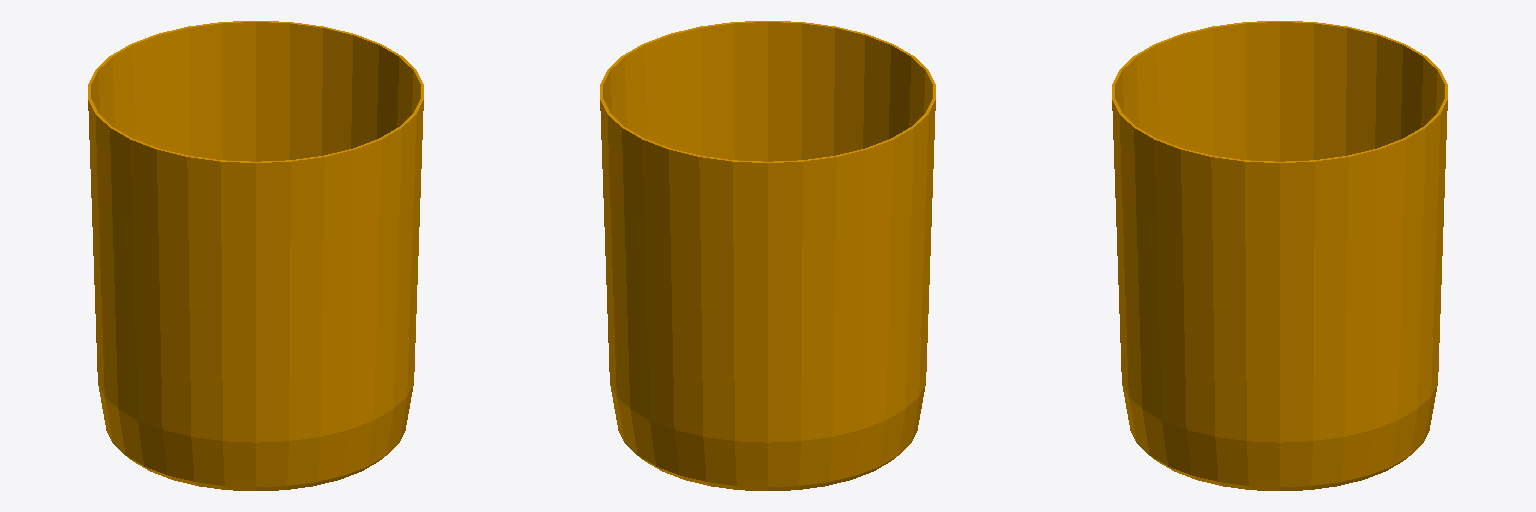
URDF robot description (object_427750634):

		<robot name="object_427750634">
			<link name="link_object_427750634">
				<visual>
					<geometry>
						<mesh filename="temp_object_427750634.obj" />
					</geometry>
				</visual>

				<collision>
					<geometry>
						<mesh filename="temp_object_427750634.obj" />
					</geometry>
				</collision>
				
				<inertial>
					<origin rpy="0 0 0" xyz="0 0 0"/>
					<mass value="0.3" />
					<inertia ixx="0.3" ixy="0" ixz="0" iyy="0.3" iyz="0" izz="0.3" />
				</inertial>
			</link>
		</robot>
		

--- Facts derived from the render (not from the file) ---
The picture shows the robot from 3 angles, left to right: view 1: azimuth 30°, elevation 25°; view 2: azimuth 150°, elevation 25°; view 3: azimuth 270°, elevation 25°; orthographic projection.
Model object_427750634 with 1 links and 0 joints (none), rooted at link_object_427750634, posed every joint at zero.
Visible links, largest first — view 1: link_object_427750634; view 2: link_object_427750634; view 3: link_object_427750634.
Boxes of the visible links, left/top/right/bottom form: link_object_427750634: left=88, top=21, right=423, bottom=490; link_object_427750634: left=600, top=21, right=935, bottom=490; link_object_427750634: left=1112, top=21, right=1447, bottom=490.
Size in the robot's own frame: 0.0616 by 0.0612 by 0.0686 metres.
1 mesh visuals loaded from 1 distinct referenced files (1 OBJ).
